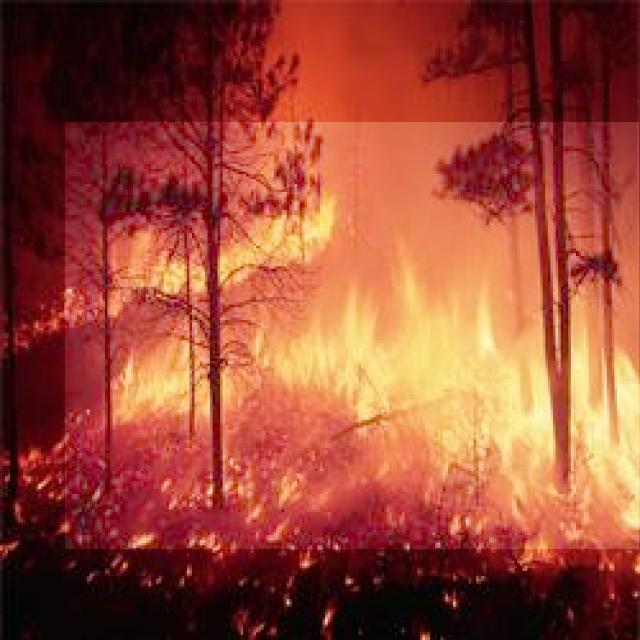Fire: (65, 122, 639, 549)
